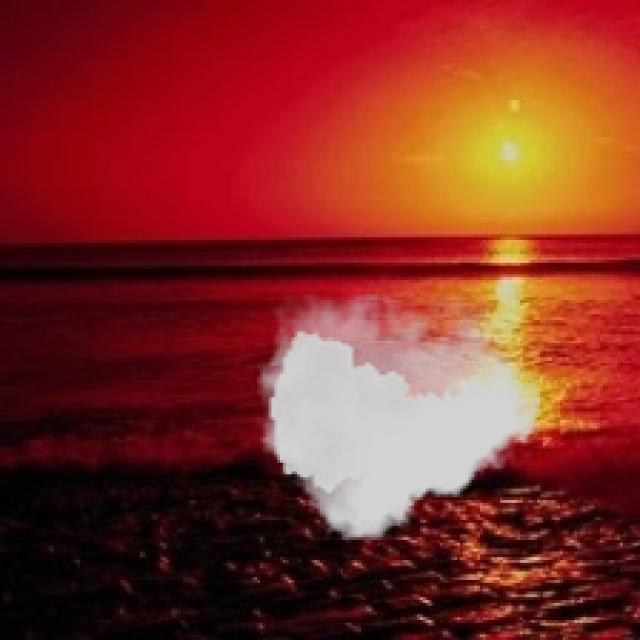smoke: (257, 294, 540, 540)
